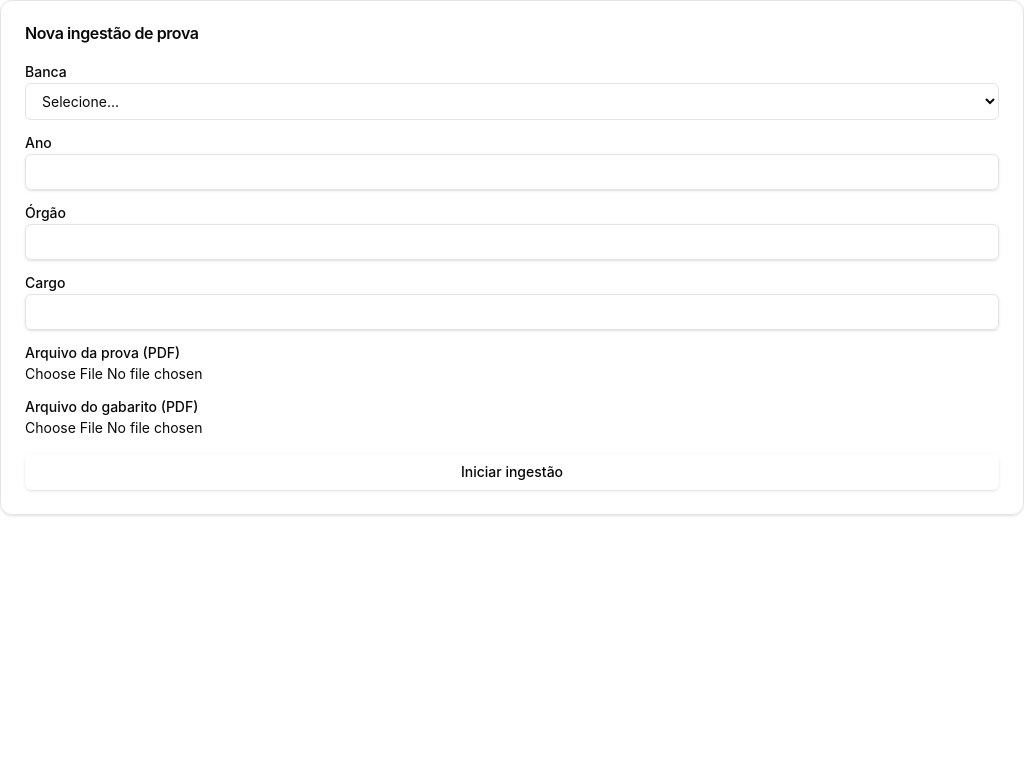
Scenario: IngestionForm › exibe erros quando campos obrigatórios estão vazios
Click the button "Iniciar ingestão".
click(512, 472)  # box [25,454,999,490]
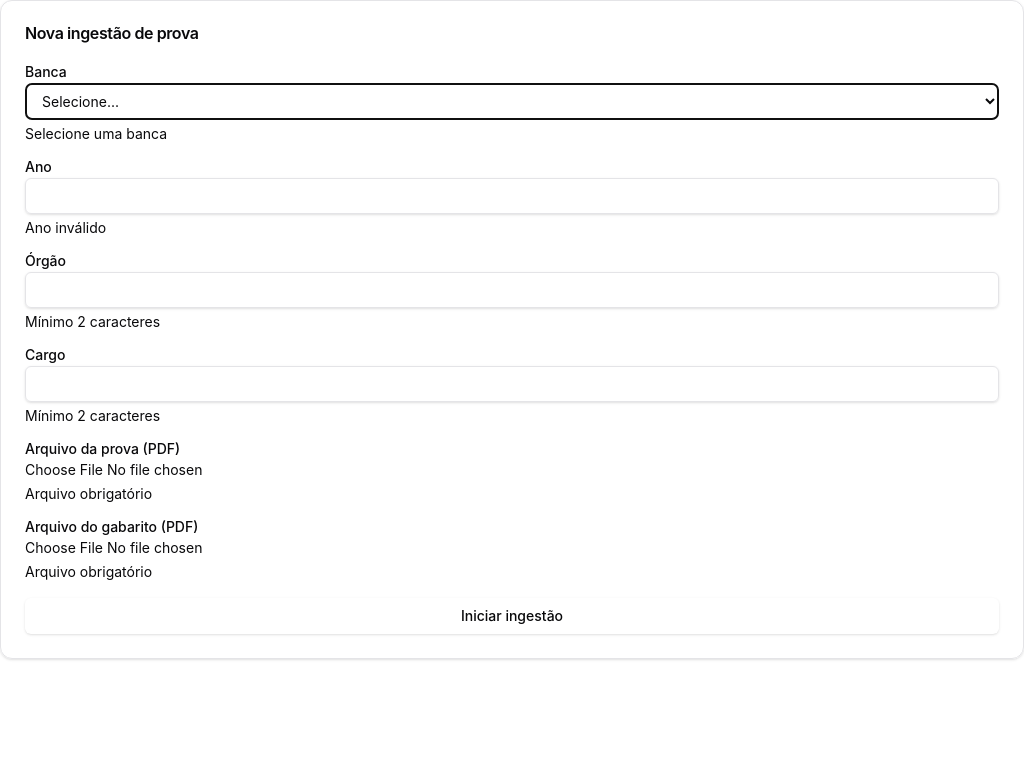
Check: the text "Selecione uma banca" is shown, box [25,125,167,142]
Check: the text "Ano inválido" is shown, box [25,219,106,236]
Check: the text "Mínimo 2 caracteres" is shown 2 times, box [25,313,160,330]; [25,407,160,424]
